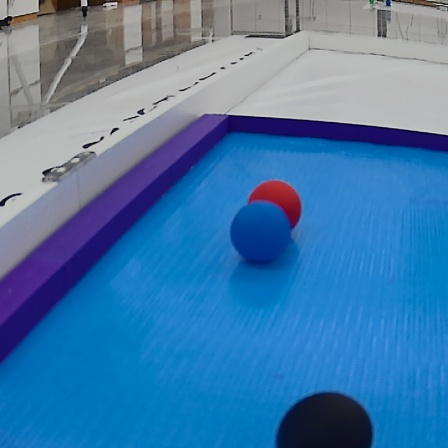black: (274, 386, 377, 448)
blue: (230, 202, 292, 269)
blue_aim: (0, 106, 448, 448)
red: (247, 179, 305, 234)
